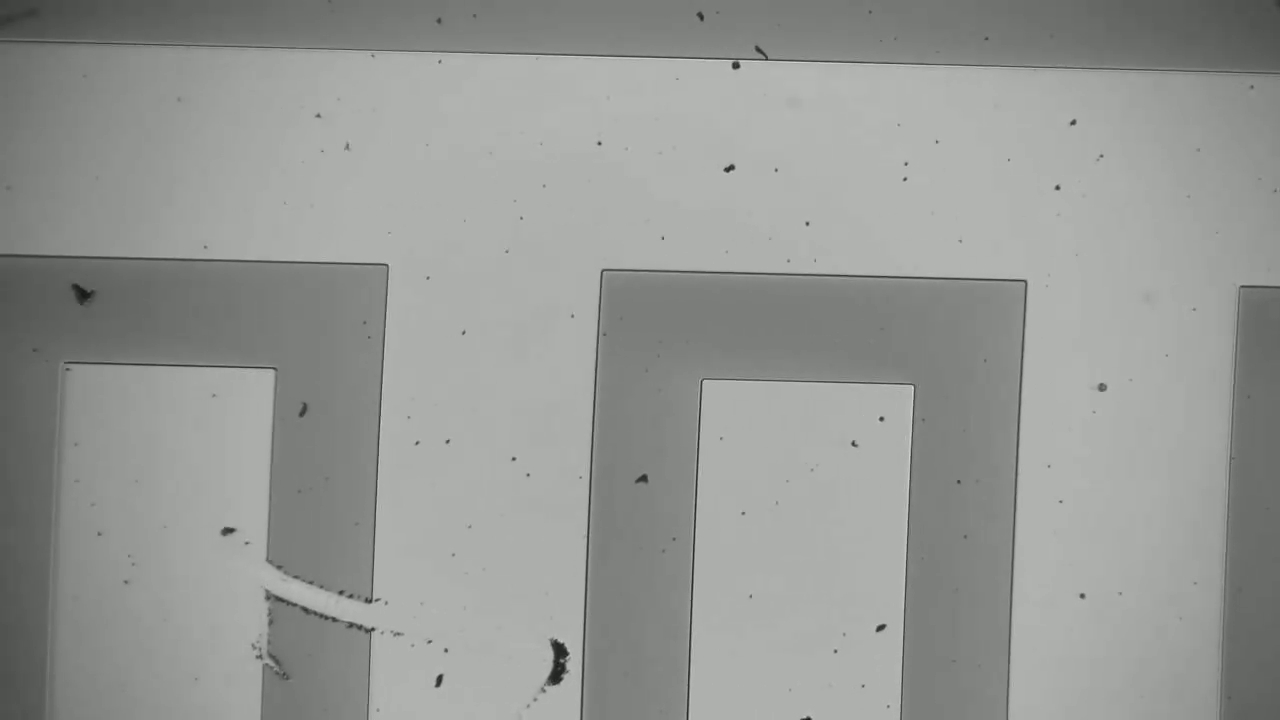Short_circuit: (249, 538, 419, 642)
